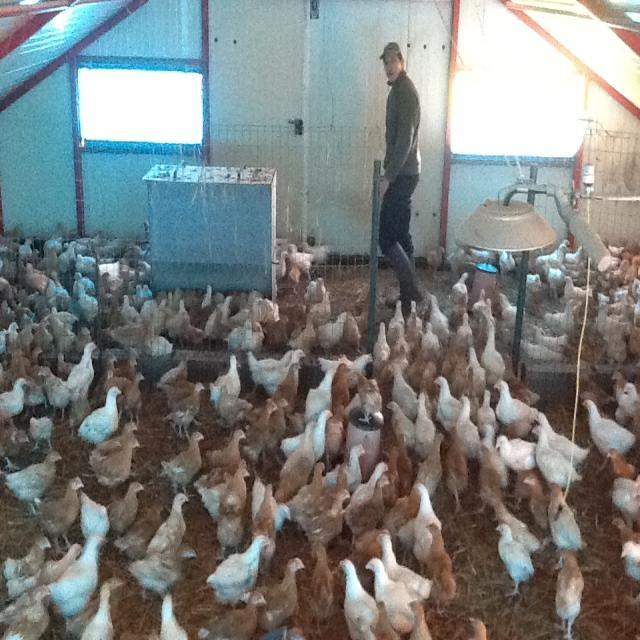poussin: (127, 544, 200, 607), (52, 532, 106, 616), (376, 531, 440, 597), (213, 534, 268, 602), (10, 449, 61, 521), (493, 522, 536, 606), (275, 418, 317, 500), (533, 422, 583, 490), (583, 396, 635, 458), (90, 434, 144, 492), (545, 480, 584, 560), (282, 405, 334, 465), (338, 557, 374, 640), (212, 587, 268, 640), (246, 347, 308, 394), (536, 410, 586, 468), (270, 550, 306, 630), (44, 476, 84, 546), (164, 426, 207, 491), (302, 489, 352, 544), (348, 474, 391, 536), (4, 529, 51, 584), (7, 583, 52, 640), (447, 431, 475, 522), (122, 498, 164, 558), (164, 380, 208, 437), (286, 456, 328, 514), (556, 545, 581, 640), (306, 461, 349, 516), (80, 578, 118, 640), (81, 388, 122, 444), (154, 492, 189, 556), (210, 494, 248, 552), (428, 523, 454, 607), (248, 398, 281, 464), (300, 362, 338, 419), (202, 466, 250, 511), (412, 480, 442, 552), (310, 542, 336, 624), (344, 460, 390, 506), (272, 364, 304, 424), (388, 362, 420, 422), (494, 374, 534, 421), (36, 364, 72, 416), (110, 482, 144, 536), (200, 292, 238, 340), (324, 443, 364, 488), (210, 352, 246, 402), (68, 340, 96, 404), (217, 383, 255, 430), (96, 416, 140, 456), (318, 304, 358, 348), (364, 556, 403, 600), (154, 354, 191, 400), (451, 248, 516, 274), (352, 370, 380, 430), (213, 424, 250, 469), (42, 542, 84, 581), (384, 399, 416, 450), (603, 476, 640, 520), (255, 482, 277, 555), (109, 311, 152, 348), (0, 376, 29, 430), (519, 333, 566, 366), (411, 390, 436, 452), (482, 322, 508, 379), (318, 348, 376, 373), (158, 590, 186, 640), (524, 472, 546, 535), (75, 282, 102, 332), (507, 362, 539, 404), (496, 434, 534, 469), (82, 493, 109, 541), (384, 440, 404, 504), (418, 428, 438, 491), (478, 442, 497, 508), (607, 507, 640, 545), (614, 538, 640, 586), (436, 376, 459, 430), (256, 501, 291, 536), (548, 300, 580, 338), (321, 406, 346, 454), (476, 384, 496, 444), (396, 434, 416, 492), (596, 304, 630, 338), (605, 446, 638, 480), (457, 398, 476, 454), (446, 344, 468, 392), (230, 296, 264, 327), (409, 603, 437, 640), (294, 308, 317, 352), (496, 292, 518, 338), (310, 290, 338, 326), (427, 291, 449, 336), (328, 366, 354, 404), (418, 316, 440, 360), (530, 322, 567, 348), (254, 294, 284, 326), (0, 223, 25, 260), (544, 261, 569, 298), (466, 346, 488, 388), (388, 296, 408, 342), (602, 368, 626, 406), (126, 370, 147, 413), (139, 298, 169, 328), (26, 416, 57, 445), (24, 258, 50, 292), (46, 274, 68, 314), (604, 332, 628, 368), (49, 304, 74, 338), (370, 320, 388, 367), (104, 367, 132, 397), (148, 326, 176, 356), (304, 274, 336, 300), (536, 244, 570, 268), (563, 274, 592, 302), (302, 239, 332, 266), (494, 249, 519, 281), (115, 288, 138, 322), (10, 322, 36, 352), (288, 243, 313, 274), (6, 348, 30, 380), (452, 270, 472, 308), (230, 324, 258, 351), (406, 294, 424, 336), (502, 416, 532, 441), (626, 320, 640, 373), (376, 600, 394, 640), (32, 318, 52, 354), (456, 306, 472, 350), (594, 256, 620, 283), (612, 285, 640, 310), (616, 256, 640, 285), (346, 312, 362, 354), (74, 230, 104, 252), (76, 322, 95, 356), (58, 240, 78, 272), (426, 242, 446, 274), (39, 231, 67, 253), (625, 378, 640, 418), (39, 246, 62, 272), (468, 613, 490, 640), (174, 299, 190, 335), (115, 358, 142, 378), (0, 282, 24, 304), (479, 296, 496, 327), (72, 272, 98, 292), (98, 235, 124, 255), (460, 366, 474, 403), (525, 268, 541, 300), (162, 288, 182, 312), (566, 240, 584, 266), (132, 279, 153, 301), (19, 235, 36, 262), (200, 282, 216, 310), (275, 248, 289, 280), (0, 300, 16, 326), (473, 287, 490, 311), (128, 240, 146, 262), (7, 322, 21, 350), (600, 241, 626, 256), (74, 255, 95, 272), (95, 270, 114, 288), (56, 349, 68, 377), (104, 350, 116, 376), (594, 286, 609, 305), (32, 346, 44, 367), (632, 295, 640, 325)
